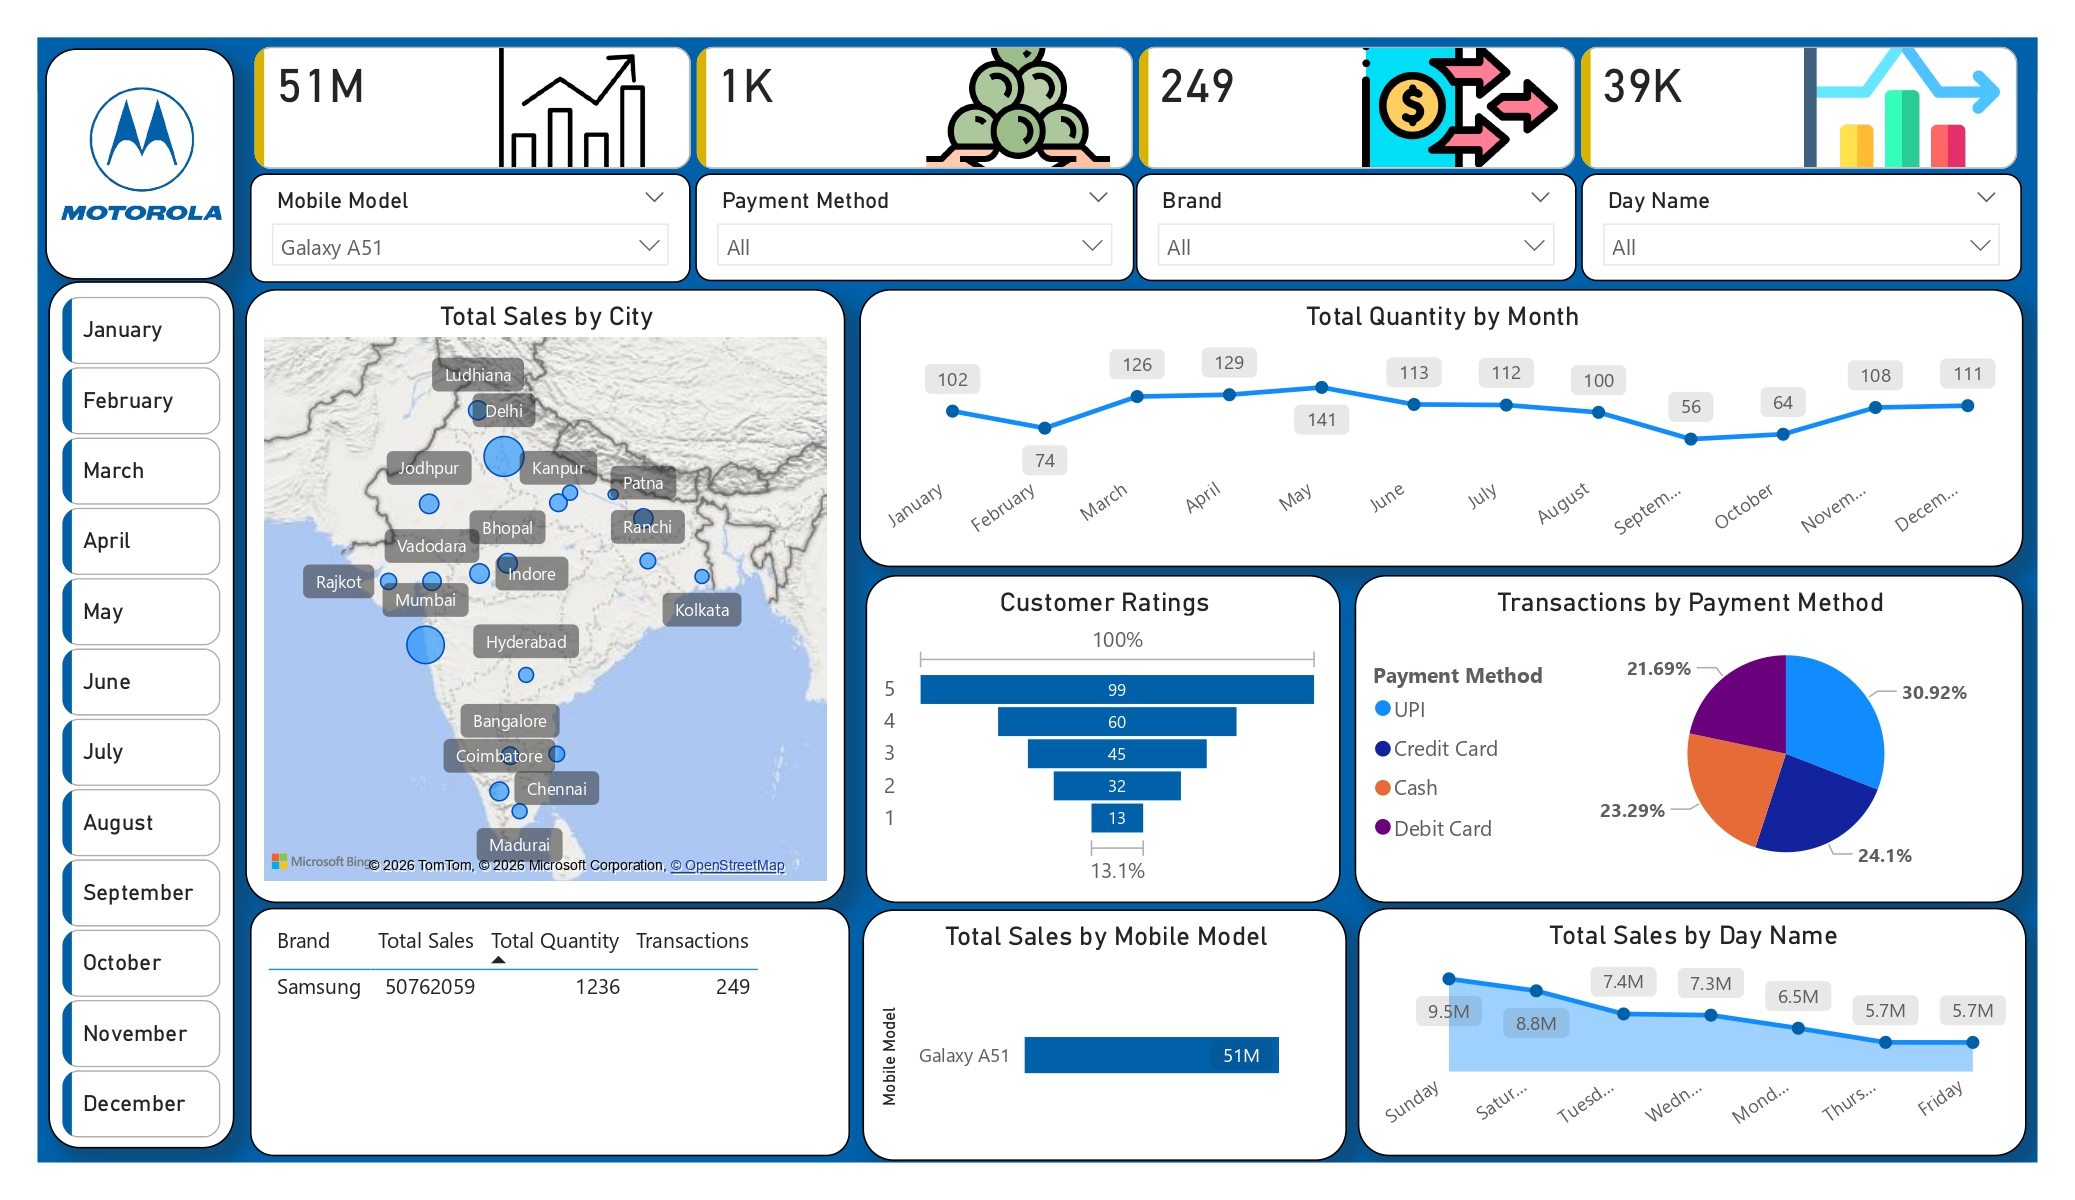

The dashboard page shown, as its layout file describes it:
{"tool":"powerbi","page":{"name":"Page 1","canvas":[1280,720],"ordinal":0},"visuals":[{"type":"shape","box":[5.5,6.9,120.8,148.2],"z":0},{"type":"image","box":[9.6,16.5,113.9,116.6],"z":1000},{"type":"shape","box":[6.9,156.4,119.4,554.4],"z":2000},{"type":"advancedSlicerVisual","fields":{"Values":["Sales_Data.Date.Variation.Date Hierarchy.Month"]},"box":[11,160.5,111.1,548.9],"z":3000},{"type":"cardVisual","fields":{"Data":["Sales_Data.Total Sales","Sales_Data.Total Quantity","Sales_Data.Transactions","Sales_Data.Average"]},"box":[134,5.6,1140.1,83.7],"z":4000},{"type":"map","fields":{"Category":["Sales_Data.City"],"Size":["Sales_Data.Total Sales"]},"box":[132.9,160.8,384.1,393.1],"z":5000},{"type":"lineChart","fields":{"Y":["Sales_Data.Total Quantity"],"Category":["Sales_Data.Date.Variation.Date Hierarchy.Month","Sales_Data.Date.Variation.Date Hierarchy.Day"]},"box":[525.9,160.8,744.8,178.7],"z":6000},{"type":"clusteredBarChart","fields":{"Category":["Sales_Data.Mobile Model"],"Y":["Sales_Data.Total Sales"]},"box":[528.3,558.5,310.1,160.5],"z":7000},{"type":"pieChart","fields":{"Category":["Sales_Data.Payment Method"],"Y":["Sales_Data.Transactions"]},"box":[842.5,344.4,428.1,209.9],"z":8000},{"type":"funnel","title":"Customer Ratings","fields":{"Category":["Sales_Data.Customer Ratings"],"Y":["CountNonNull(Sales_Data.Customer Ratings)"]},"box":[529.7,344.4,304.6,209.9],"z":9000},{"type":"areaChart","fields":{"Category":["Sales_Data.Day Name"],"Y":["Sales_Data.Total Sales"]},"box":[845.3,557.1,428.1,159.2],"z":10000},{"type":"tableEx","fields":{"Values":["Sales_Data.Brand","Sales_Data.Total Sales","Sales_Data.Total Quantity","Sales_Data.Transactions"]},"box":[135.8,557.1,384.2,159.2],"z":11000},{"type":"slicer","fields":{"Values":["Sales_Data.Mobile Model"]},"box":[136.2,87.1,281.4,70.3],"z":12000},{"type":"slicer","fields":{"Values":["Sales_Data.Payment Method"]},"box":[421,87.1,281.4,69.2],"z":13000},{"type":"slicer","fields":{"Values":["Sales_Data.Brand"]},"box":[703.5,87.1,281.4,69.2],"z":14000},{"type":"slicer","fields":{"Values":["Sales_Data.Day Name"]},"box":[988.2,87.1,281.4,69.2],"z":15000}]}

Visuals, with their boxes in screenshot pixels (x1, y1, x2, y2):
shape: left=52, top=48, right=238, bottom=277
image: left=58, top=63, right=234, bottom=243
shape: left=54, top=279, right=238, bottom=1134
advancedSlicerVisual - Sales_Data.Date.Variation.Date Hierarchy.Month: left=60, top=285, right=232, bottom=1132
cardVisual - Sales_Data.Total Sales x Sales_Data.Total Quantity: left=250, top=46, right=2008, bottom=176
map - Sales_Data.City x Sales_Data.Total Sales: left=248, top=286, right=840, bottom=892
lineChart - Sales_Data.Total Quantity x Sales_Data.Date.Variation.Date Hierarchy.Month: left=854, top=286, right=2003, bottom=561
clusteredBarChart - Sales_Data.Mobile Model x Sales_Data.Total Sales: left=858, top=899, right=1336, bottom=1147
pieChart - Sales_Data.Payment Method x Sales_Data.Transactions: left=1342, top=569, right=2003, bottom=893
"Customer Ratings" funnel: left=860, top=569, right=1330, bottom=893
areaChart - Sales_Data.Day Name x Sales_Data.Total Sales: left=1347, top=897, right=2007, bottom=1142
tableEx - Sales_Data.Brand x Sales_Data.Total Sales: left=253, top=897, right=845, bottom=1142
slicer - Sales_Data.Mobile Model: left=253, top=172, right=687, bottom=281
slicer - Sales_Data.Payment Method: left=692, top=172, right=1126, bottom=279
slicer - Sales_Data.Brand: left=1128, top=172, right=1562, bottom=279
slicer - Sales_Data.Day Name: left=1567, top=172, right=2001, bottom=279
